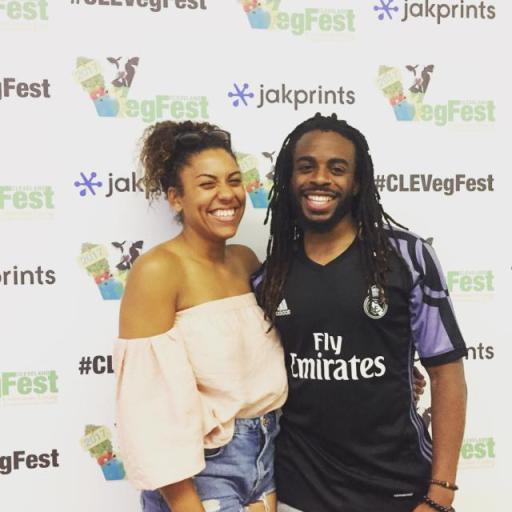Adidas: (272, 294, 295, 320)
Emirates: (288, 328, 386, 382)
